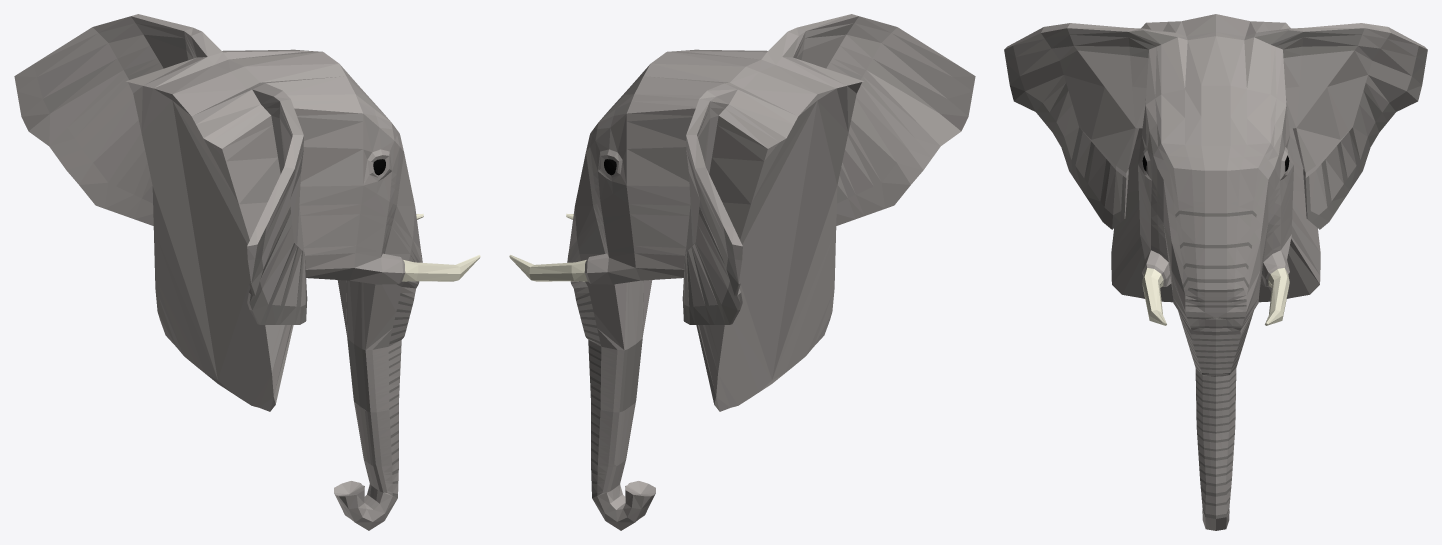
The model's file is elephant_head.obj.
3 views of the same model, side by side, from view 1: azimuth 30°, elevation 25°; view 2: azimuth 150°, elevation 25°; view 3: azimuth 270°, elevation 25° (orthographic). The views are drawn at different scales.
Parts seen in each view (by area): view 1: Plane.001; view 2: Plane.001; view 3: Plane.001.
Part boxes in pixels (x1,y1,x2,y2): Plane.001: (14,14,480,530); Plane.001: (509,14,975,530); Plane.001: (1004,14,1427,530).
Size of the model in its own units: 1.8 by 2.66 by 2.3.
